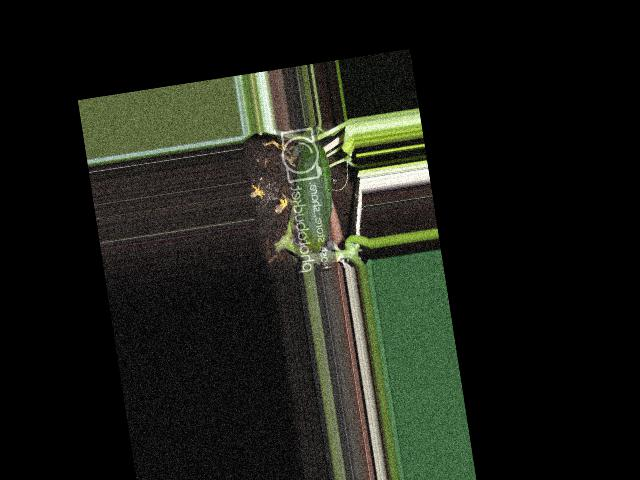cucumber: (286, 141, 341, 252)
